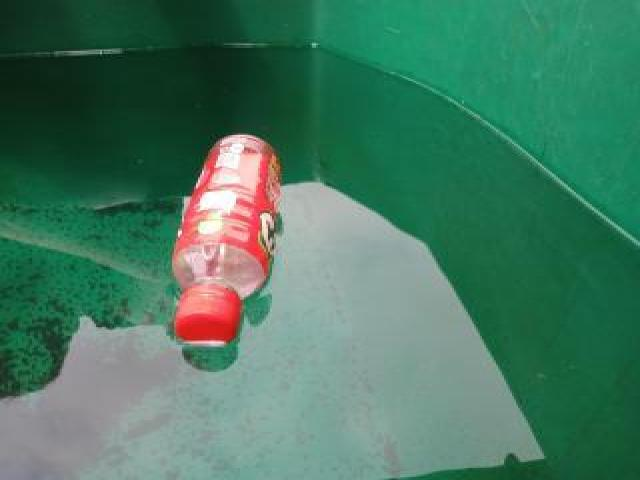Bottle: (160, 129, 295, 354)
